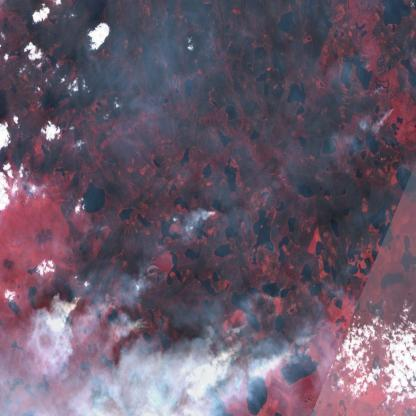fire: (49, 248, 347, 378)
